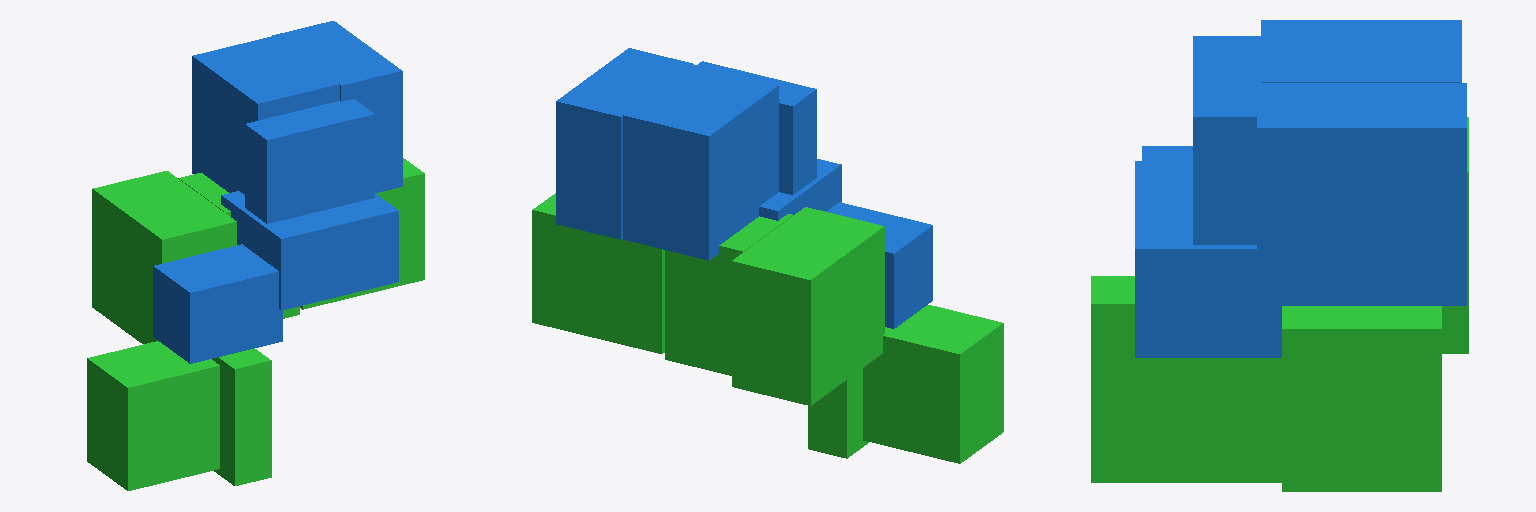
The robot description file, URDF, robot "robot":
<robot name = "robot">
    <link name="Link0">
        <inertial>
            <origin xyz="0 0 2" rpy="0 0 0"/>
            <mass value="0.6075803153769049" />
            <inertia ixx="100" ixy="0" ixz="0" iyy="100" iyz="0" izz="100" />
        </inertial>
        <visual>
            <origin xyz="0 0 2" rpy="0 0 0"/>
            <geometry>
                <box size="0.9038401991962549 0.6937697927247224 0.9689394880898436" />
            </geometry>
            <material name="Sensor">
                <color rgba="0.239 0.875 0.282 1.0"/>
            </material>
        </visual>
        <collision>
            <origin xyz="0 0 2" rpy="0 0 0"/>
            <geometry>
                <box size="0.9038401991962549 0.6937697927247224 0.9689394880898436" />
            </geometry>
        </collision>
    </link>
    <joint name="Link0_Link1" type="revolute">
       <parent link="Link0"/>
       <child  link="Link1"/>
       <origin rpy="0 0 0" xyz="0.45192009959812746 0 2" />
       <axis xyz="1 0 0"/>
       <limit effort="0.0" lower="-3.14159" upper="3.14159" velocity="0.0"/>
    </joint>
    <link name="Link1">
        <inertial>
            <origin xyz="0.1799879862226602 0 0" rpy="0 0 0"/>
            <mass value="0.4696858187804295" />
            <inertia ixx="100" ixy="0" ixz="0" iyy="100" iyz="0" izz="100" />
        </inertial>
        <visual>
            <origin xyz="0.1799879862226602 0 0" rpy="0 0 0"/>
            <geometry>
                <box size="0.3599759724453204 1.188719173368931 1.0976267092393877" />
            </geometry>
            <material name="Sensor">
                <color rgba="0.239 0.875 0.282 1.0"/>
            </material>
        </visual>
        <collision>
            <origin xyz="0.1799879862226602 0 0" rpy="0 0 0"/>
            <geometry>
                <box size="0.3599759724453204 1.188719173368931 1.0976267092393877" />
            </geometry>
        </collision>
    </link>
    <joint name="Link1_Link2" type="revolute">
       <parent link="Link1"/>
       <child  link="Link2"/>
       <origin rpy="0 0 0" xyz="0.1799879862226602 0.0 0.5488133546196938" />
       <axis xyz="0 0 1"/>
       <limit effort="0.0" lower="-3.14159" upper="3.14159" velocity="0.0"/>
    </joint>
    <link name="Link2">
        <inertial>
            <origin xyz="0.0 0.0 0.3332833645073737" rpy="0 0 0"/>
            <mass value="0.3810295101263322" />
            <inertia ixx="100" ixy="0" ixz="0" iyy="100" iyz="0" izz="100" />
        </inertial>
        <visual>
            <origin xyz="0.0 0.0 0.3332833645073737" rpy="0 0 0"/>
            <geometry>
                <box size="0.9090356596658833 0.6288311686617318 0.6665667290147474" />
            </geometry>
            <material name="No Sensor">
                <color rgba="0.184 0.553 0.933 1.0"/>
            </material>
        </visual>
        <collision>
            <origin xyz="0.0 0.0 0.3332833645073737" rpy="0 0 0"/>
            <geometry>
                <box size="0.9090356596658833 0.6288311686617318 0.6665667290147474" />
            </geometry>
        </collision>
    </link>
    <joint name="Link2_Link3" type="revolute">
       <parent link="Link2"/>
       <child  link="Link3"/>
       <origin rpy="0 0 0" xyz="0.0 0.3144155843308659 0.3332833645073737" />
       <axis xyz="0 0 1"/>
       <limit effort="0.0" lower="-3.14159" upper="3.14159" velocity="0.0"/>
    </joint>
    <link name="Link3">
        <inertial>
            <origin xyz="0.0 0.5926418850034003 0.0" rpy="0 0 0"/>
            <mass value="0.9663872815851082" />
            <inertia ixx="100" ixy="0" ixz="0" iyy="100" iyz="0" izz="100" />
        </inertial>
        <visual>
            <origin xyz="0.0 0.5926418850034003 0.0" rpy="0 0 0"/>
            <geometry>
                <box size="0.7321539221574674 1.1852837700068006 1.1135929549181025" />
            </geometry>
            <material name="Sensor">
                <color rgba="0.239 0.875 0.282 1.0"/>
            </material>
        </visual>
        <collision>
            <origin xyz="0.0 0.5926418850034003 0.0" rpy="0 0 0"/>
            <geometry>
                <box size="0.7321539221574674 1.1852837700068006 1.1135929549181025" />
            </geometry>
        </collision>
    </link>
    <joint name="Link3_Link4" type="revolute">
       <parent link="Link3"/>
       <child  link="Link4"/>
       <origin rpy="0 0 0" xyz="0.3660769610787337 0.5926418850034003 0.0" />
       <axis xyz="0 0 1"/>
       <limit effort="0.0" lower="-3.14159" upper="3.14159" velocity="0.0"/>
    </joint>
    <link name="Link4">
        <inertial>
            <origin xyz="0.3639619246082797 0.0 0.0" rpy="0 0 0"/>
            <mass value="0.6590682404271483" />
            <inertia ixx="100" ixy="0" ixz="0" iyy="100" iyz="0" izz="100" />
        </inertial>
        <visual>
            <origin xyz="0.3639619246082797 0.0 0.0" rpy="0 0 0"/>
            <geometry>
                <box size="0.7279238492165594 0.804518498278167 1.1254038622793217" />
            </geometry>
            <material name="Sensor">
                <color rgba="0.239 0.875 0.282 1.0"/>
            </material>
        </visual>
        <collision>
            <origin xyz="0.3639619246082797 0.0 0.0" rpy="0 0 0"/>
            <geometry>
                <box size="0.7279238492165594 0.804518498278167 1.1254038622793217" />
            </geometry>
        </collision>
    </link>
    <joint name="Link4_Link5" type="revolute">
       <parent link="Link4"/>
       <child  link="Link5"/>
       <origin rpy="0 0 0" xyz="0.7279238492165594 0.0 0.0" />
       <axis xyz="0 1 0"/>
       <limit effort="0.0" lower="-3.14159" upper="3.14159" velocity="0.0"/>
    </joint>
    <link name="Link5">
        <inertial>
            <origin xyz="0.599632216886145 0.0 0.0" rpy="0 0 0"/>
            <mass value="1.0647897699725506" />
            <inertia ixx="100" ixy="0" ixz="0" iyy="100" iyz="0" izz="100" />
        </inertial>
        <visual>
            <origin xyz="0.599632216886145 0.0 0.0" rpy="0 0 0"/>
            <geometry>
                <box size="1.19926443377229 0.889184755868246 0.9985203200897537" />
            </geometry>
            <material name="Sensor">
                <color rgba="0.239 0.875 0.282 1.0"/>
            </material>
        </visual>
        <collision>
            <origin xyz="0.599632216886145 0.0 0.0" rpy="0 0 0"/>
            <geometry>
                <box size="1.19926443377229 0.889184755868246 0.9985203200897537" />
            </geometry>
        </collision>
    </link>
    <joint name="Link5_Link6" type="revolute">
       <parent link="Link5"/>
       <child  link="Link6"/>
       <origin rpy="0 0 0" xyz="0.599632216886145 0.0 0.49926016004487683" />
       <axis xyz="1 0 0"/>
       <limit effort="0.0" lower="-3.14159" upper="3.14159" velocity="0.0"/>
    </joint>
    <link name="Link6">
        <inertial>
            <origin xyz="0.0 0.0 0.5433760249269156" rpy="0 0 0"/>
            <mass value="0.7636768885718331" />
            <inertia ixx="100" ixy="0" ixz="0" iyy="100" iyz="0" izz="100" />
        </inertial>
        <visual>
            <origin xyz="0.0 0.0 0.5433760249269156" rpy="0 0 0"/>
            <geometry>
                <box size="0.6016249063604426 1.16802831908618 1.0867520498538312" />
            </geometry>
            <material name="No Sensor">
                <color rgba="0.184 0.553 0.933 1.0"/>
            </material>
        </visual>
        <collision>
            <origin xyz="0.0 0.0 0.5433760249269156" rpy="0 0 0"/>
            <geometry>
                <box size="0.6016249063604426 1.16802831908618 1.0867520498538312" />
            </geometry>
        </collision>
    </link>
    <joint name="Link6_Link7" type="revolute">
       <parent link="Link6"/>
       <child  link="Link7"/>
       <origin rpy="0 0 0" xyz="-0.3008124531802213 0.0 0.5433760249269156" />
       <axis xyz="1 0 0"/>
       <limit effort="0.0" lower="-3.14159" upper="3.14159" velocity="0.0"/>
    </joint>
    <link name="Link7">
        <inertial>
            <origin xyz="-0.4010279406123814 0.0 0.0" rpy="0 0 0"/>
            <mass value="0.9859245787277234" />
            <inertia ixx="100" ixy="0" ixz="0" iyy="100" iyz="0" izz="100" />
        </inertial>
        <visual>
            <origin xyz="-0.4010279406123814 0.0 0.0" rpy="0 0 0"/>
            <geometry>
                <box size="0.8020558812247628 1.1176272096151738 1.0998718814403323" />
            </geometry>
            <material name="No Sensor">
                <color rgba="0.184 0.553 0.933 1.0"/>
            </material>
        </visual>
        <collision>
            <origin xyz="-0.4010279406123814 0.0 0.0" rpy="0 0 0"/>
            <geometry>
                <box size="0.8020558812247628 1.1176272096151738 1.0998718814403323" />
            </geometry>
        </collision>
    </link>
    <joint name="Link7_Link8" type="revolute">
       <parent link="Link7"/>
       <child  link="Link8"/>
       <origin rpy="0 0 0" xyz="-0.4010279406123814 -0.5588136048075869 0.0" />
       <axis xyz="0 0 1"/>
       <limit effort="0.0" lower="-3.14159" upper="3.14159" velocity="0.0"/>
    </joint>
    <link name="Link8">
        <inertial>
            <origin xyz="0.0 -0.19034641219869403 0.0" rpy="0 0 0"/>
            <mass value="0.3167037099263866" />
            <inertia ixx="100" ixy="0" ixz="0" iyy="100" iyz="0" izz="100" />
        </inertial>
        <visual>
            <origin xyz="0.0 -0.19034641219869403 0.0" rpy="0 0 0"/>
            <geometry>
                <box size="1.058411356606142 0.38069282439738805 0.7860025748218121" />
            </geometry>
            <material name="No Sensor">
                <color rgba="0.184 0.553 0.933 1.0"/>
            </material>
        </visual>
        <collision>
            <origin xyz="0.0 -0.19034641219869403 0.0" rpy="0 0 0"/>
            <geometry>
                <box size="1.058411356606142 0.38069282439738805 0.7860025748218121" />
            </geometry>
        </collision>
    </link>
    <joint name="Link8_Link9" type="revolute">
       <parent link="Link8"/>
       <child  link="Link9"/>
       <origin rpy="0 0 0" xyz="0.0 -0.19034641219869403 -0.39300128741090606" />
       <axis xyz="0 1 0"/>
       <limit effort="0.0" lower="-3.14159" upper="3.14159" velocity="0.0"/>
    </joint>
    <link name="Link9">
        <inertial>
            <origin xyz="0.0 0.0 -0.3353565995125959" rpy="0 0 0"/>
            <mass value="0.7879243773409597" />
            <inertia ixx="100" ixy="0" ixz="0" iyy="100" iyz="0" izz="100" />
        </inertial>
        <visual>
            <origin xyz="0.0 0.0 -0.3353565995125959" rpy="0 0 0"/>
            <geometry>
                <box size="1.150783114706916 1.0208318305538304 0.6707131990251918" />
            </geometry>
            <material name="No Sensor">
                <color rgba="0.184 0.553 0.933 1.0"/>
            </material>
        </visual>
        <collision>
            <origin xyz="0.0 0.0 -0.3353565995125959" rpy="0 0 0"/>
            <geometry>
                <box size="1.150783114706916 1.0208318305538304 0.6707131990251918" />
            </geometry>
        </collision>
    </link>
</robot>

--- What the picture shows (computed from the rendered views, not written in the file) ---
The picture shows the robot from 3 angles, left to right: view 1: azimuth 30°, elevation 25°; view 2: azimuth 150°, elevation 25°; view 3: azimuth 270°, elevation 25°; orthographic projection.
Robot: robot — 10 links, 9 joints (9 revolute); root link Link0; default pose: all joints at 0.
Links seen in each view (by area): view 1: Link0, Link3, Link8, Link9, Link7, Link2, Link6, Link1, Link5, Link4; view 2: Link3, Link7, Link0, Link5, Link6, Link4, Link2, Link8, Link1, Link9; view 3: Link6, Link5, Link1, Link9, Link8, Link7, Link3, Link2.
Boxes of the visible links, x1=… form: Link0: x1=87, y1=341, x2=219, y2=490; Link3: x1=92, y1=171, x2=236, y2=343; Link8: x1=245, y1=99, x2=374, y2=223; Link9: x1=221, y1=191, x2=398, y2=310; Link7: x1=192, y1=36, x2=339, y2=194; Link2: x1=153, y1=244, x2=282, y2=363; Link6: x1=272, y1=21, x2=402, y2=192; Link1: x1=212, y1=348, x2=271, y2=485; Link5: x1=300, y1=158, x2=424, y2=309; Link4: x1=178, y1=173, x2=299, y2=318; Link3: x1=732, y1=207, x2=884, y2=405; Link7: x1=623, y1=64, x2=778, y2=260; Link0: x1=863, y1=305, x2=1003, y2=463; Link5: x1=532, y1=193, x2=664, y2=353; Link6: x1=556, y1=48, x2=692, y2=239; Link4: x1=665, y1=214, x2=793, y2=375; Link2: x1=826, y1=202, x2=932, y2=328; Link8: x1=698, y1=61, x2=816, y2=194; Link1: x1=808, y1=368, x2=868, y2=458; Link9: x1=759, y1=159, x2=841, y2=220; Link6: x1=1257, y1=83, x2=1466, y2=305; Link5: x1=1282, y1=306, x2=1441, y2=491; Link1: x1=1091, y1=276, x2=1281, y2=482; Link9: x1=1135, y1=161, x2=1281, y2=357; Link8: x1=1193, y1=36, x2=1260, y2=244; Link7: x1=1261, y1=20, x2=1461, y2=82; Link3: x1=1442, y1=117, x2=1468, y2=353; Link2: x1=1142, y1=146, x2=1192, y2=160.
Size in the robot's own frame: 3.38 by 2.09 by 3.02 metres.
Geometry: primitives only (box / cylinder / sphere), no mesh files.